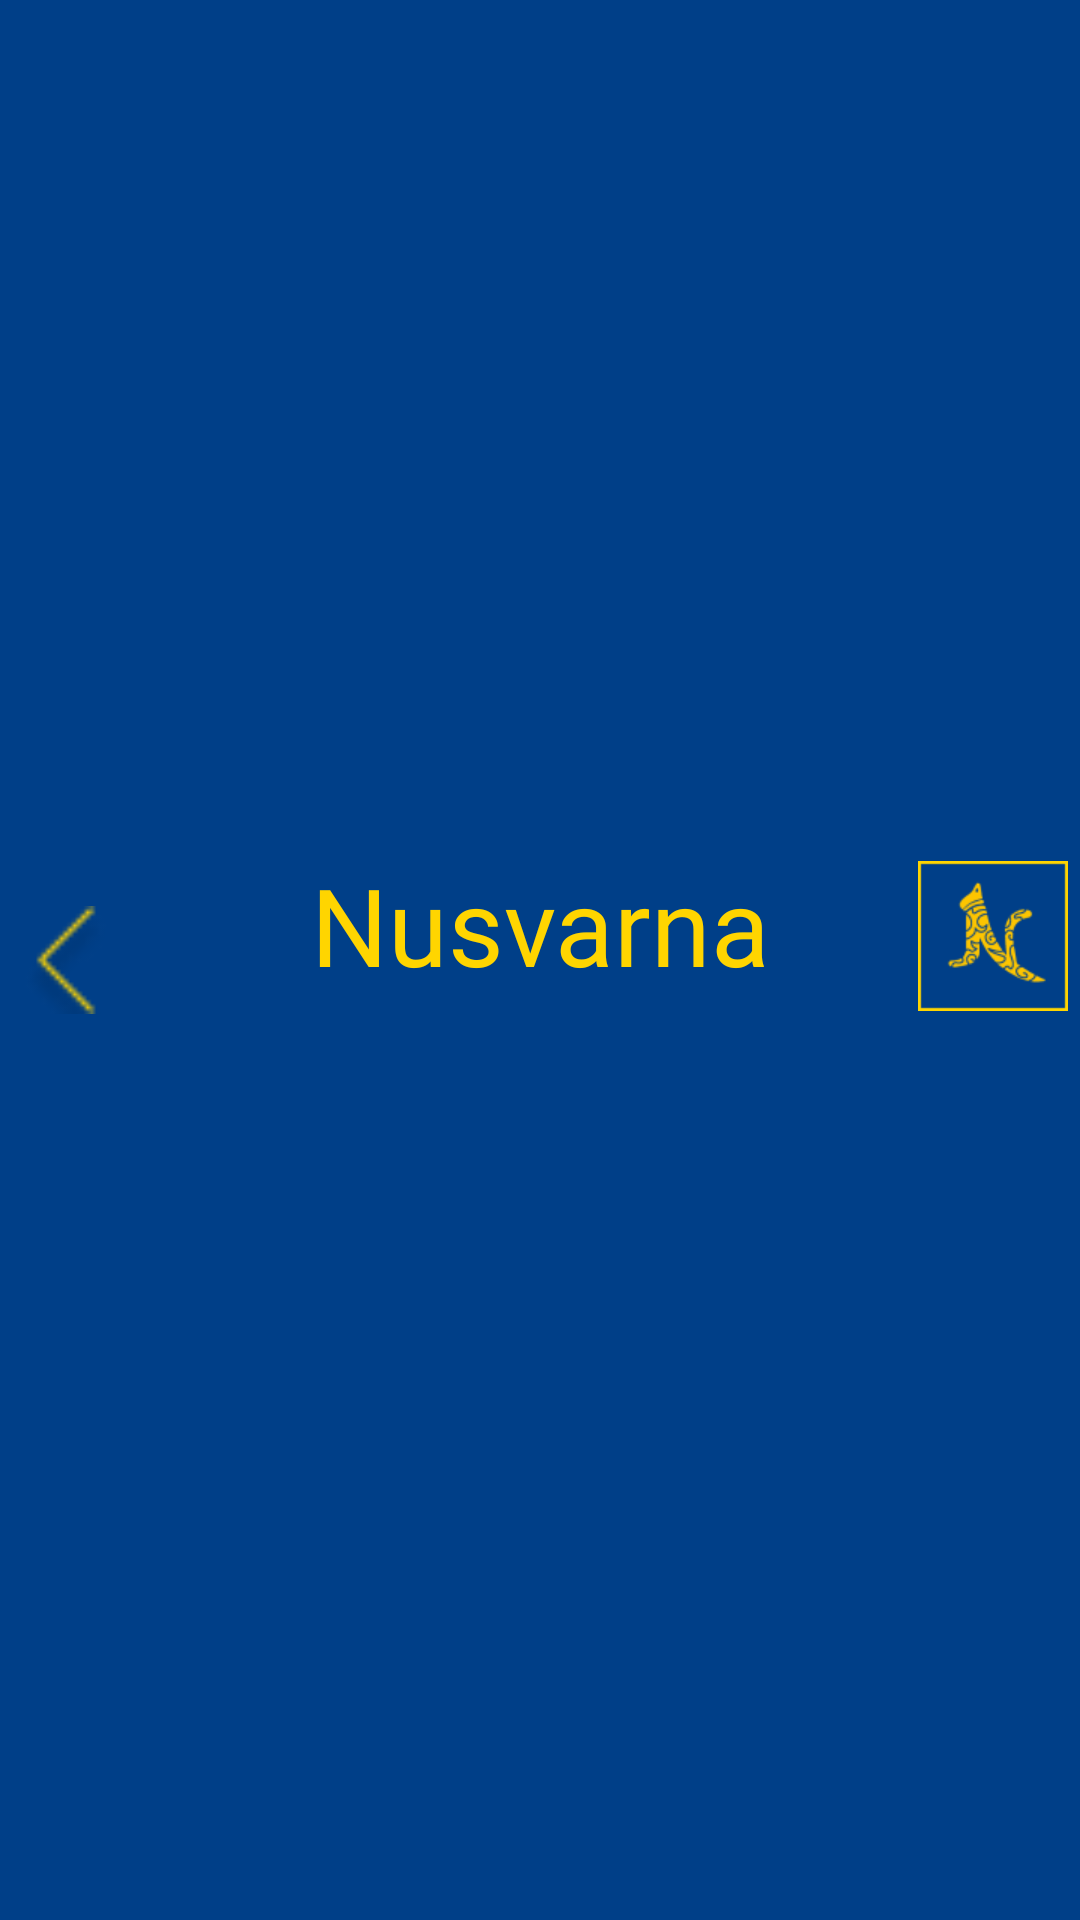

Named icons in this screenshot (1080x1920) and their centers, (x=x, y=y):
kembali: (x=65, y=960)
